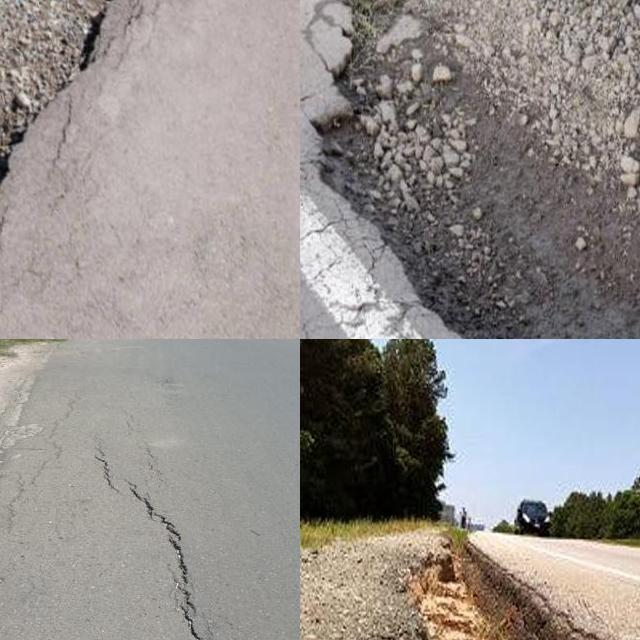Memanjang: (80, 429, 228, 640)
Pinggir: (311, 0, 640, 339), (0, 0, 180, 282)
